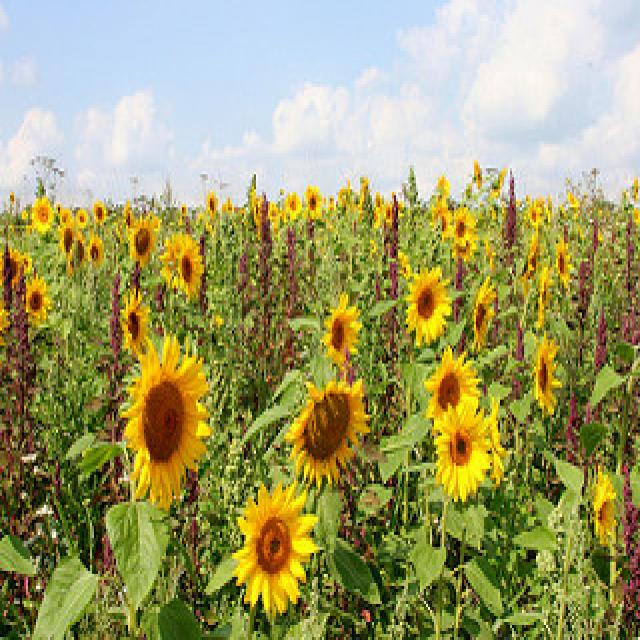sunflower: (119, 346, 218, 502), (238, 488, 308, 622), (286, 382, 371, 487), (435, 406, 488, 506), (428, 348, 491, 421), (319, 292, 367, 372), (533, 332, 567, 423), (411, 269, 448, 344), (175, 240, 207, 297), (124, 220, 157, 264)
